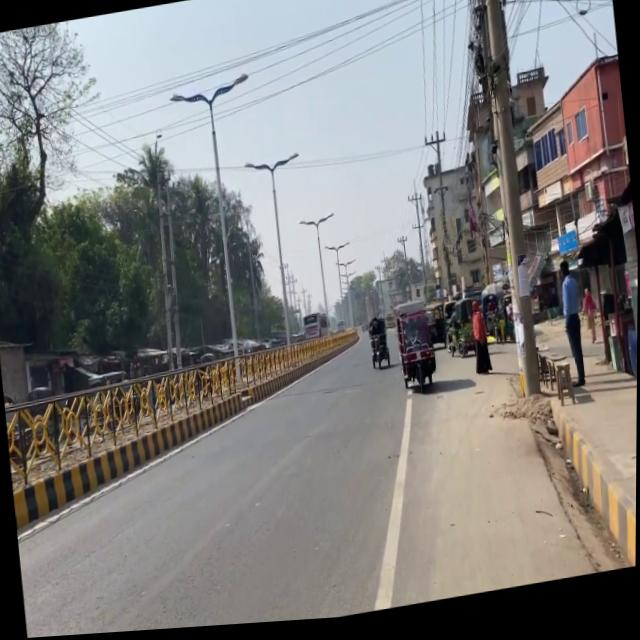Bench: (392, 301, 440, 400)
Construction-barrier: (6, 390, 256, 531)
Fallen-tree: (368, 333, 391, 376), (444, 325, 466, 365)
Garbage: (553, 367, 576, 414), (543, 358, 570, 397)
Garbage-bin: (556, 265, 589, 396), (468, 305, 493, 381), (579, 294, 600, 353)
Light-pole: (469, 0, 545, 407)
Pole: (6, 336, 337, 518)
Pothole: (527, 306, 638, 586)
